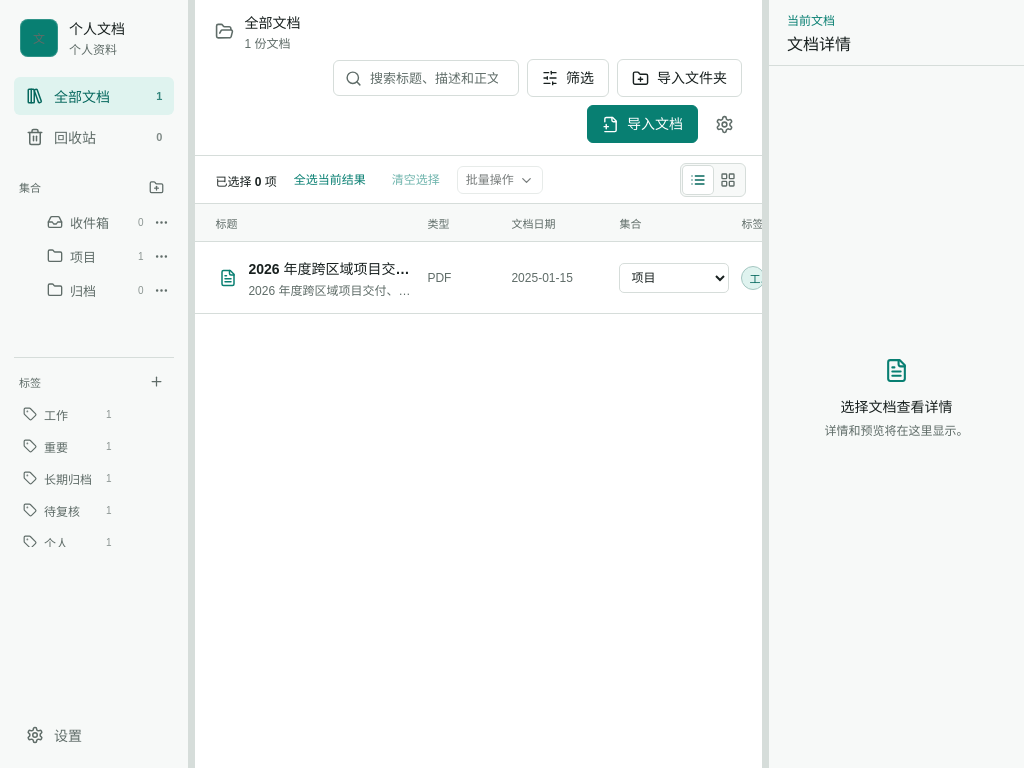
三栏工作台与列表、网格视图 › renders the three semantic panes and every default list field
Check: the element named "集合与标签" is shown, box [0, 0, 189, 767]
Check: the element "文档详情" shows "选择文档查看详情", box [840, 399, 952, 415]
What coordinates should you click on to do the following:
click the button with aria-label "选择文档 2026 年度跨区域项目交付、验收与长期归档说明文档（最终确认版本）"
I would click on:
 (315, 278)
Its box is [215, 249, 415, 306].
(page scrolled)
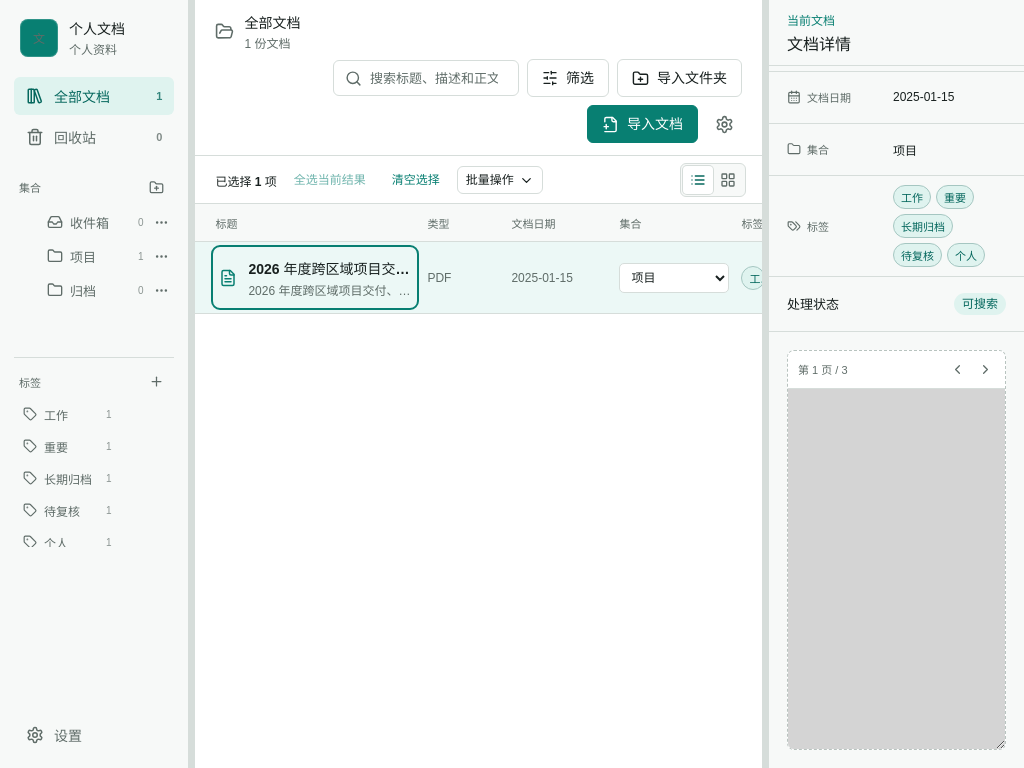
Check: the text "2025-01-15" is shown, box [893, 90, 954, 104]
Check: the text "项目" below "类型" is shown, box [893, 144, 917, 158]
Check: the text "工作" below "类型" is shown, box [901, 192, 923, 204]
